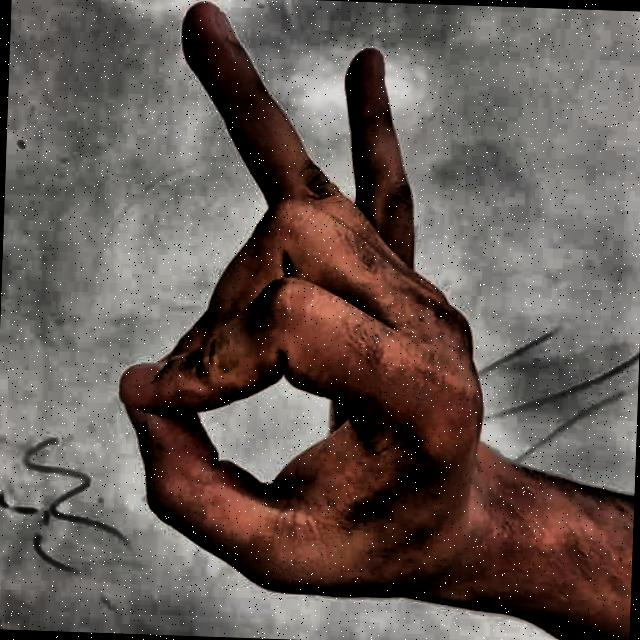Na: (67, 0, 551, 640)
